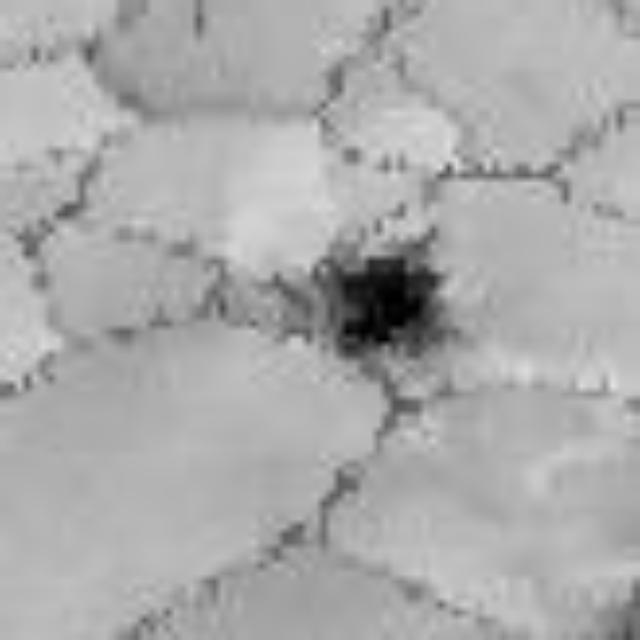good_void: (266, 226, 482, 383)
